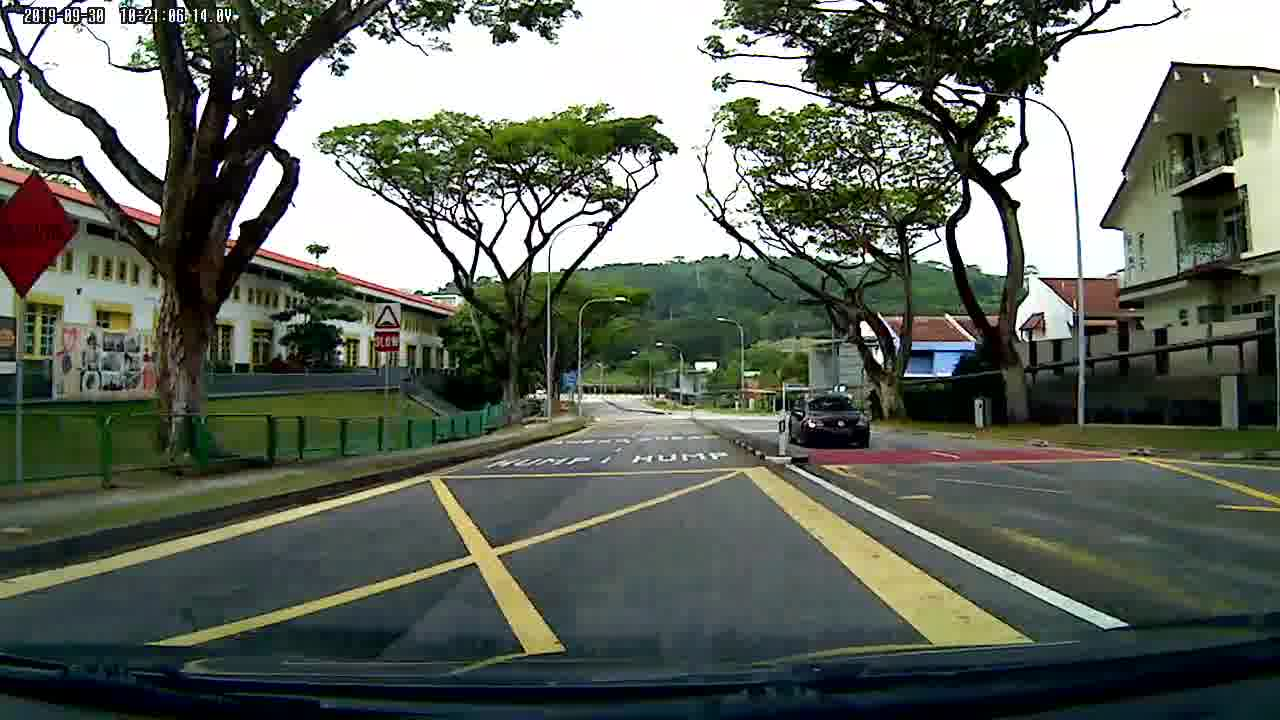car: (781, 391, 874, 448)
